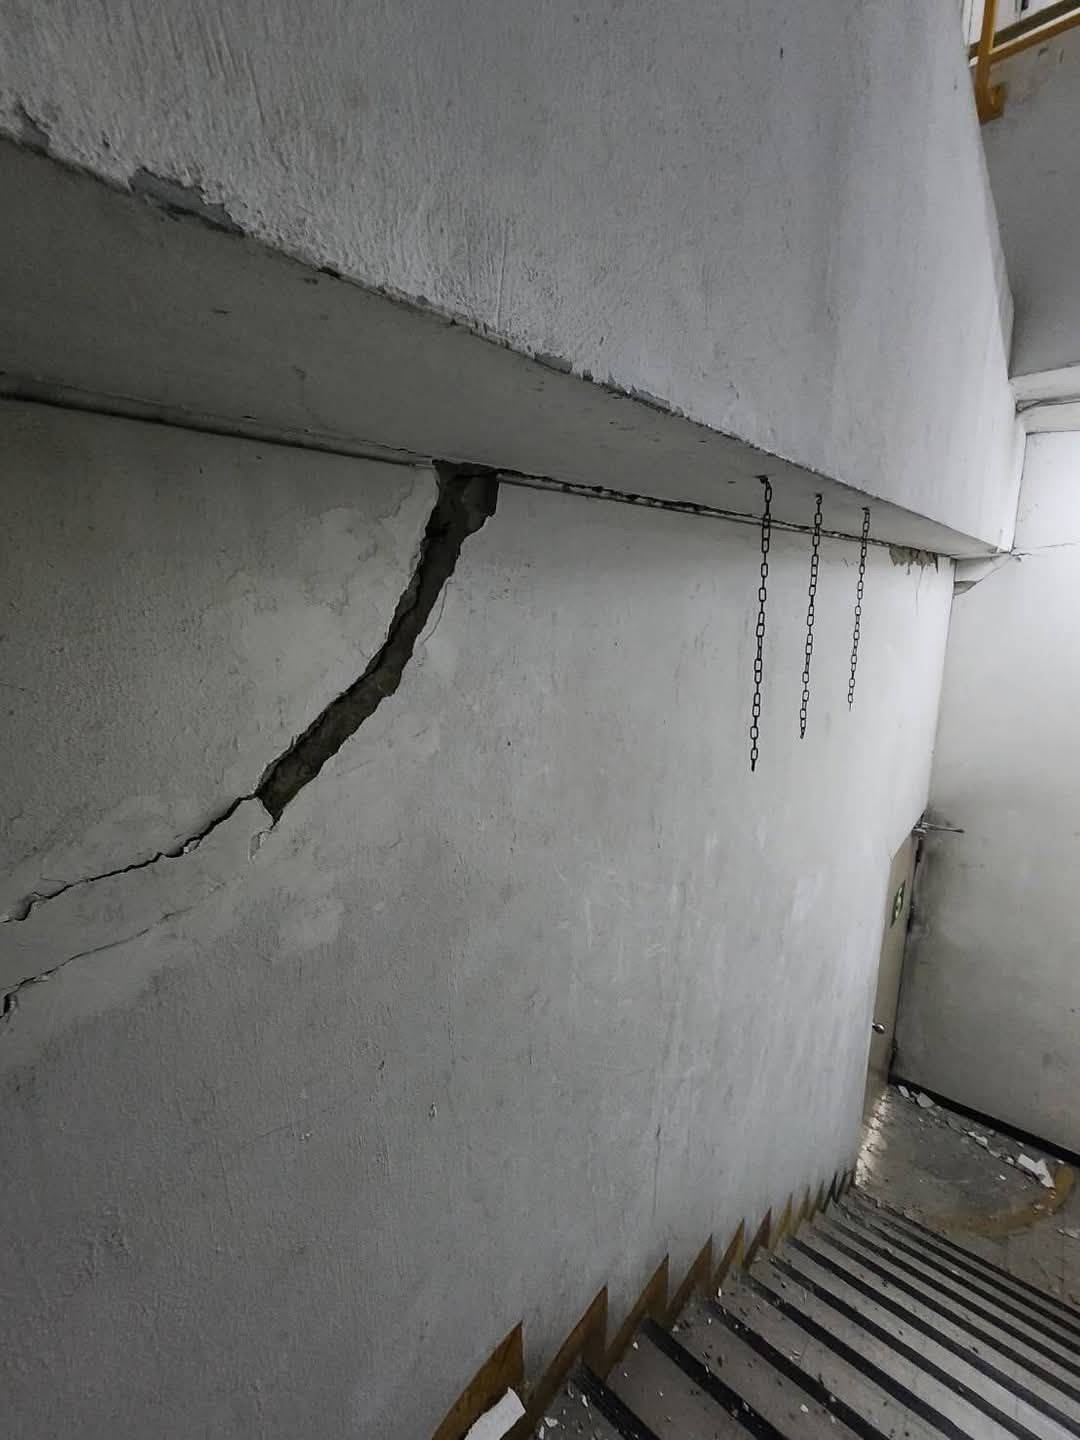High: (6, 396, 745, 1048)
